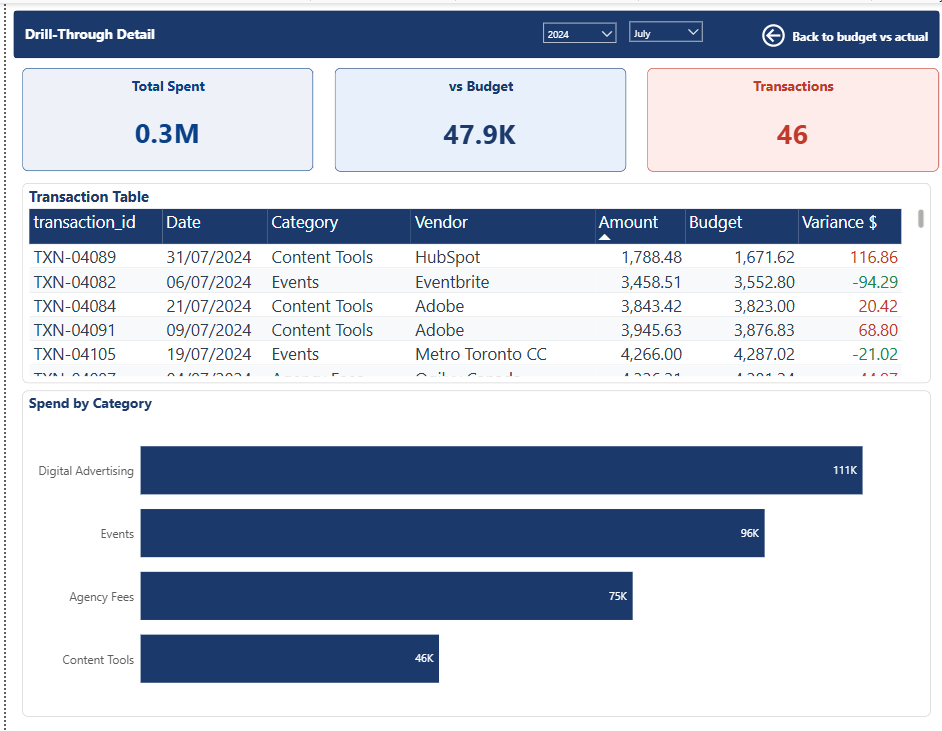

The dashboard page shown, as its layout file describes it:
{"tool":"powerbi","page":{"name":"Drill-Through Detail","canvas":[1280,1000],"ordinal":3},"visuals":[{"type":"shape","box":[9.8,11,1258.3,64.8],"z":0},{"type":"textbox","box":[20.4,23.8,441.6,40.8],"z":1},{"type":"actionButton","box":[1022.4,23.8,234.4,40.8],"z":2},{"type":"advanceCardE03760C5AB684758B56AA29F9E6C257B","title":"Total Spent","fields":{"mainMeasure":["_Measures.Total Expense"]},"box":[22,88.3,395,140],"z":3},{"type":"advanceCardE03760C5AB684758B56AA29F9E6C257B","title":"vs Budget","fields":{"mainMeasure":["_Measures.Budget Variance $"]},"box":[446.4,88.3,395.7,141],"z":4},{"type":"advanceCardE03760C5AB684758B56AA29F9E6C257B","title":"Transactions","fields":{"mainMeasure":["_Measures.Transaction Count"]},"box":[871.6,88.3,395.7,141],"z":5},{"type":"tableEx","title":"Transaction Table","fields":{"Values":["production fact_financials.transaction_id","production dim_date.full_date","production dim_category.category_name","production fact_financials.vendor","production fact_financials.amount","production fact_financials.budget_amount","_Measures.Budget Variance $"]},"box":[22.1,244.6,1234.7,271.7],"z":6},{"type":"clusteredBarChart","title":"Spend by Category","fields":{"Category":["production dim_category.category_name"],"Y":["_Measures.Total Expense"]},"box":[22.1,526.5,1234.7,443.3],"z":7}]}

Visuals, with their boxes in screenshot pixels (x1, y1, x2, y2), scaled from the page's 1280x1000 canvas onto the 942x731 screenshot:
shape: 7 8 933 55
textbox: 15 17 340 47
actionButton: 752 17 925 47
"Total Spent" advanceCardE03760C5AB684758B56AA29F9E6C257B: 16 65 307 167
"vs Budget" advanceCardE03760C5AB684758B56AA29F9E6C257B: 329 65 620 168
"Transactions" advanceCardE03760C5AB684758B56AA29F9E6C257B: 641 65 933 168
"Transaction Table" tableEx: 16 179 925 377
"Spend by Category" clusteredBarChart: 16 385 925 709
